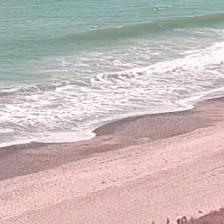surfer: (91, 26, 95, 30), (156, 7, 160, 11)
